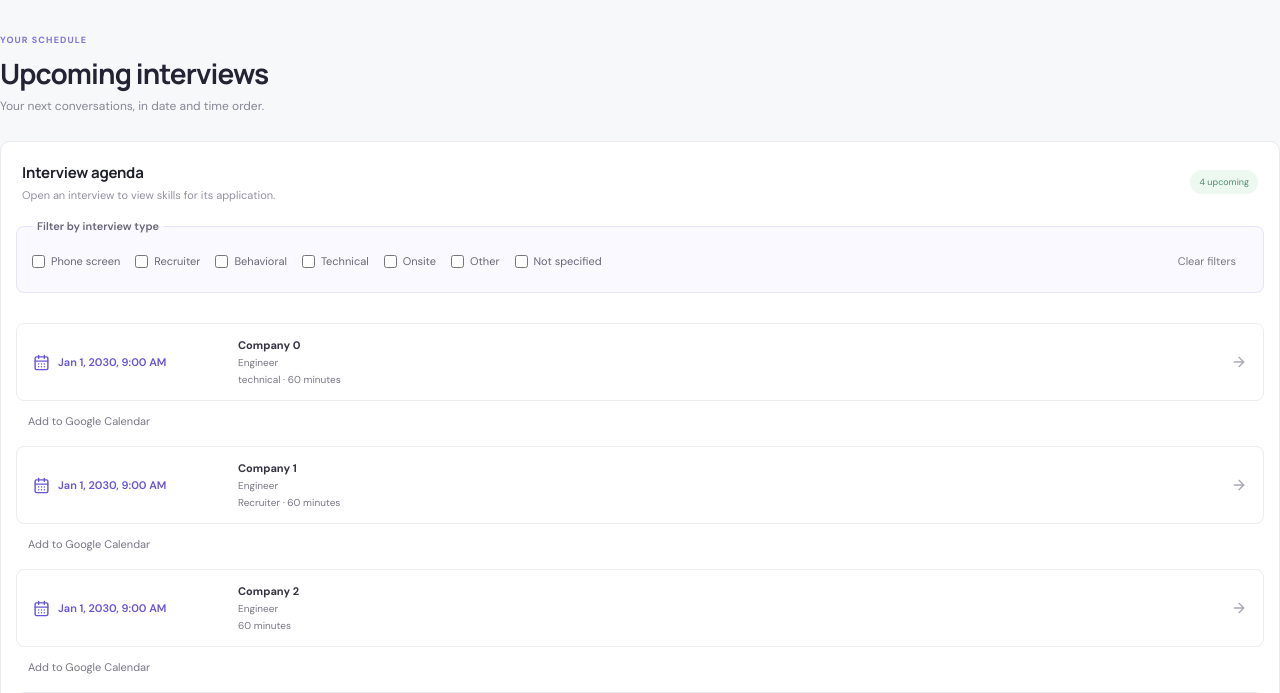
Test: Interview type filters › includes legacy untyped records and explains empty filtered results
What coordinates should you click on to do the following:
click the checkbox labelled "Not specified"
I would click on:
 (521, 261)
Its box is 514,254 -> 528,268.
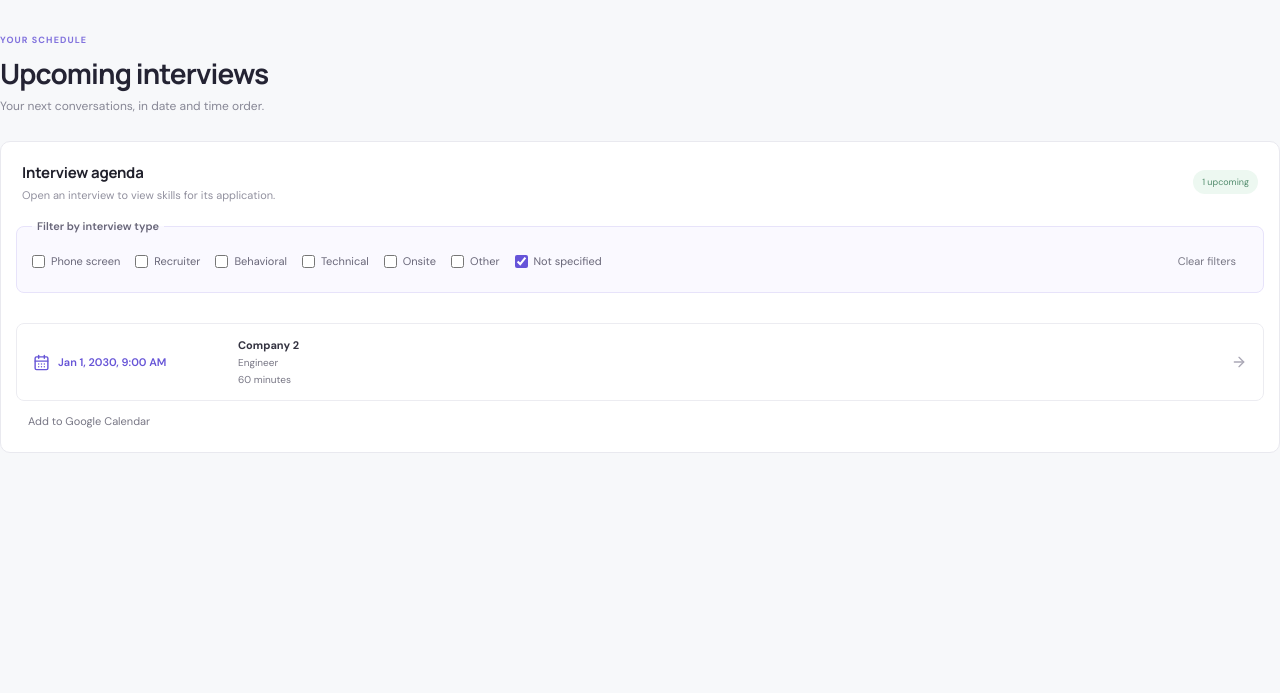
What coordinates should you click on to do the following:
click the checkbox labelled "Not specified"
I would click on:
 (521, 261)
Its box is 514,254 -> 528,268.
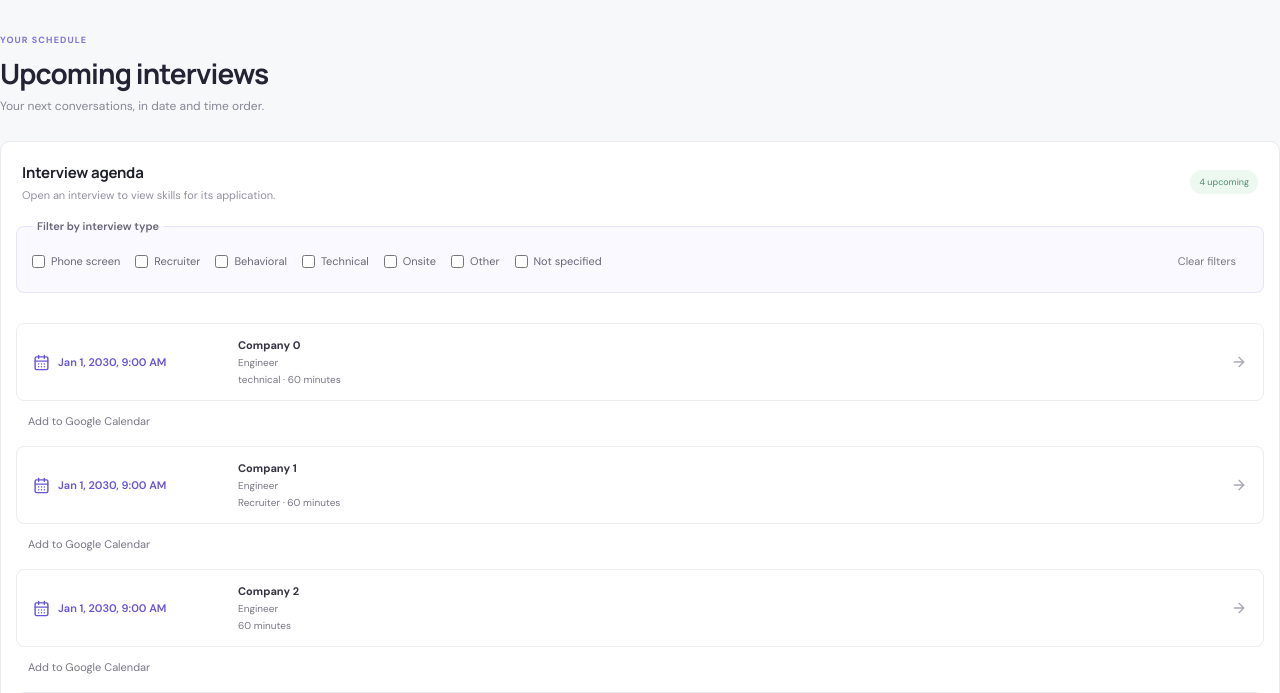
What coordinates should you click on to do the following:
click the checkbox labelled "Onsite"
I would click on:
 (390, 261)
Its box is 384,254 -> 397,268.
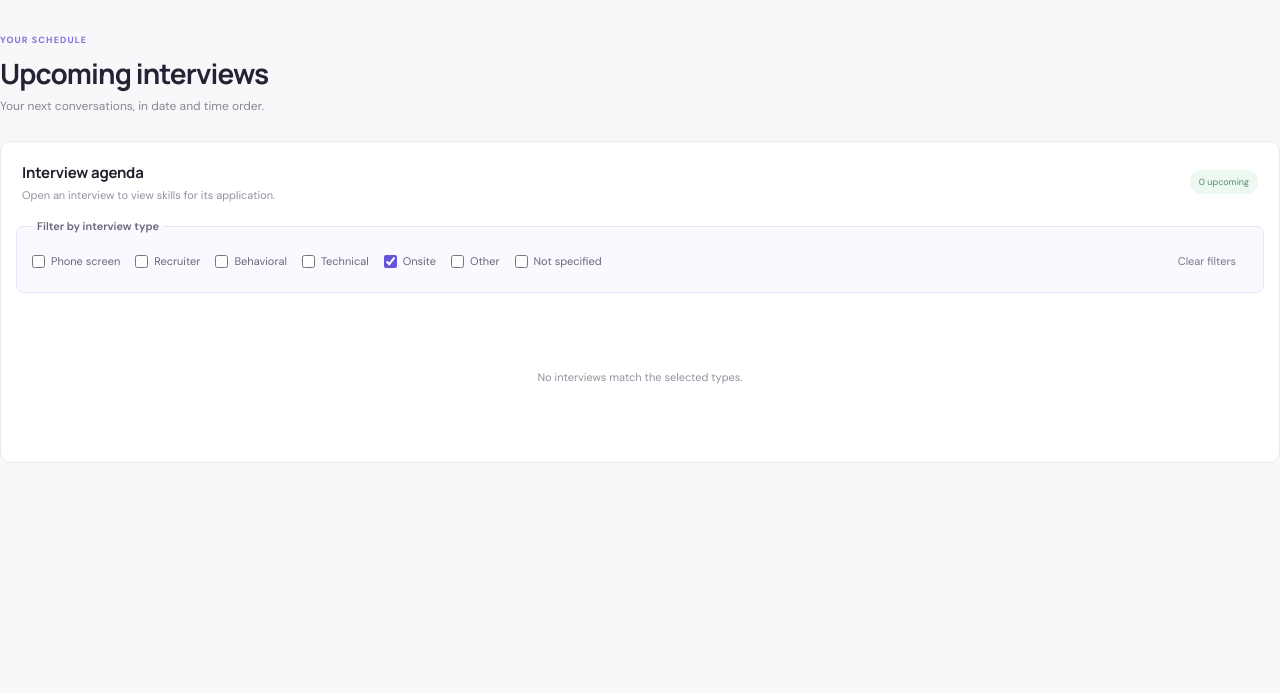
Check: the text "No interviews match the selected types." is shown, box 538,370 -> 742,384
